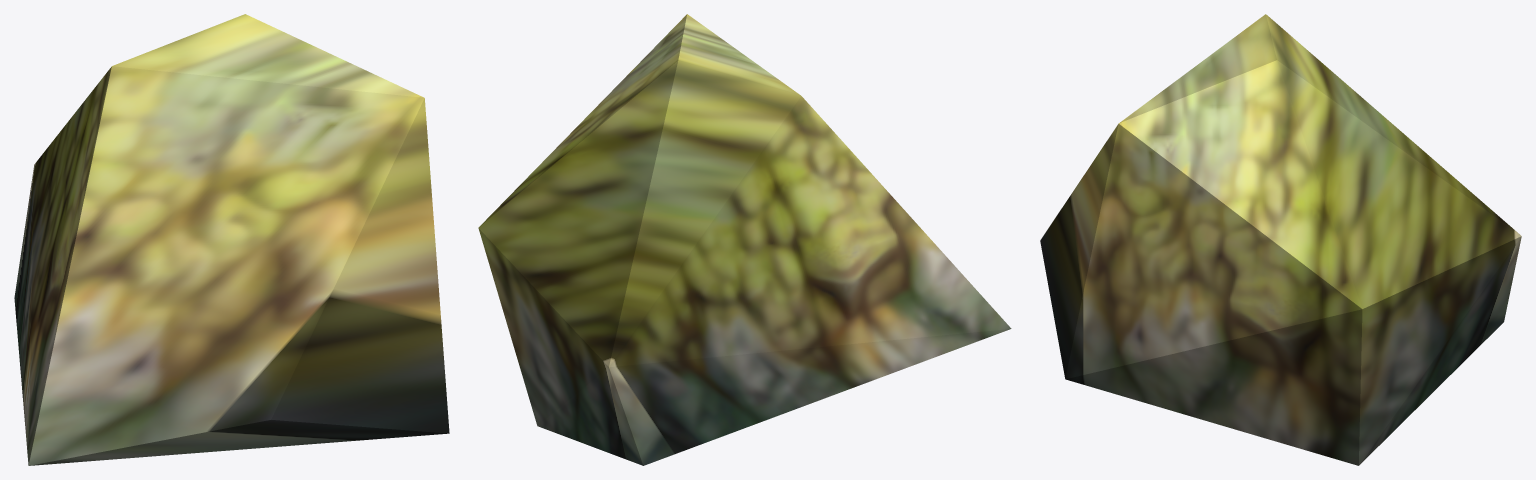
Rendered from Ridge_1_Rock_Floor_1.gltf.
The picture shows the model from 3 angles, left to right: view 1: azimuth 30°, elevation 25°; view 2: azimuth 150°, elevation 25°; view 3: azimuth 270°, elevation 25°; orthographic projection. The views are drawn at different scales.
Parts seen in each view (by area): view 1: Ridge_1_Rock_Floor_1; view 2: Ridge_1_Rock_Floor_1; view 3: Ridge_1_Rock_Floor_1.
Part boxes in pixels (bbox=[...]): Ridge_1_Rock_Floor_1: bbox=[14, 14, 449, 465]; Ridge_1_Rock_Floor_1: bbox=[478, 14, 1011, 465]; Ridge_1_Rock_Floor_1: bbox=[1040, 14, 1521, 465].
Bounding box in the file's own units: 2.52 × 2.09 × 2.55.
1 material, 1 textured.
